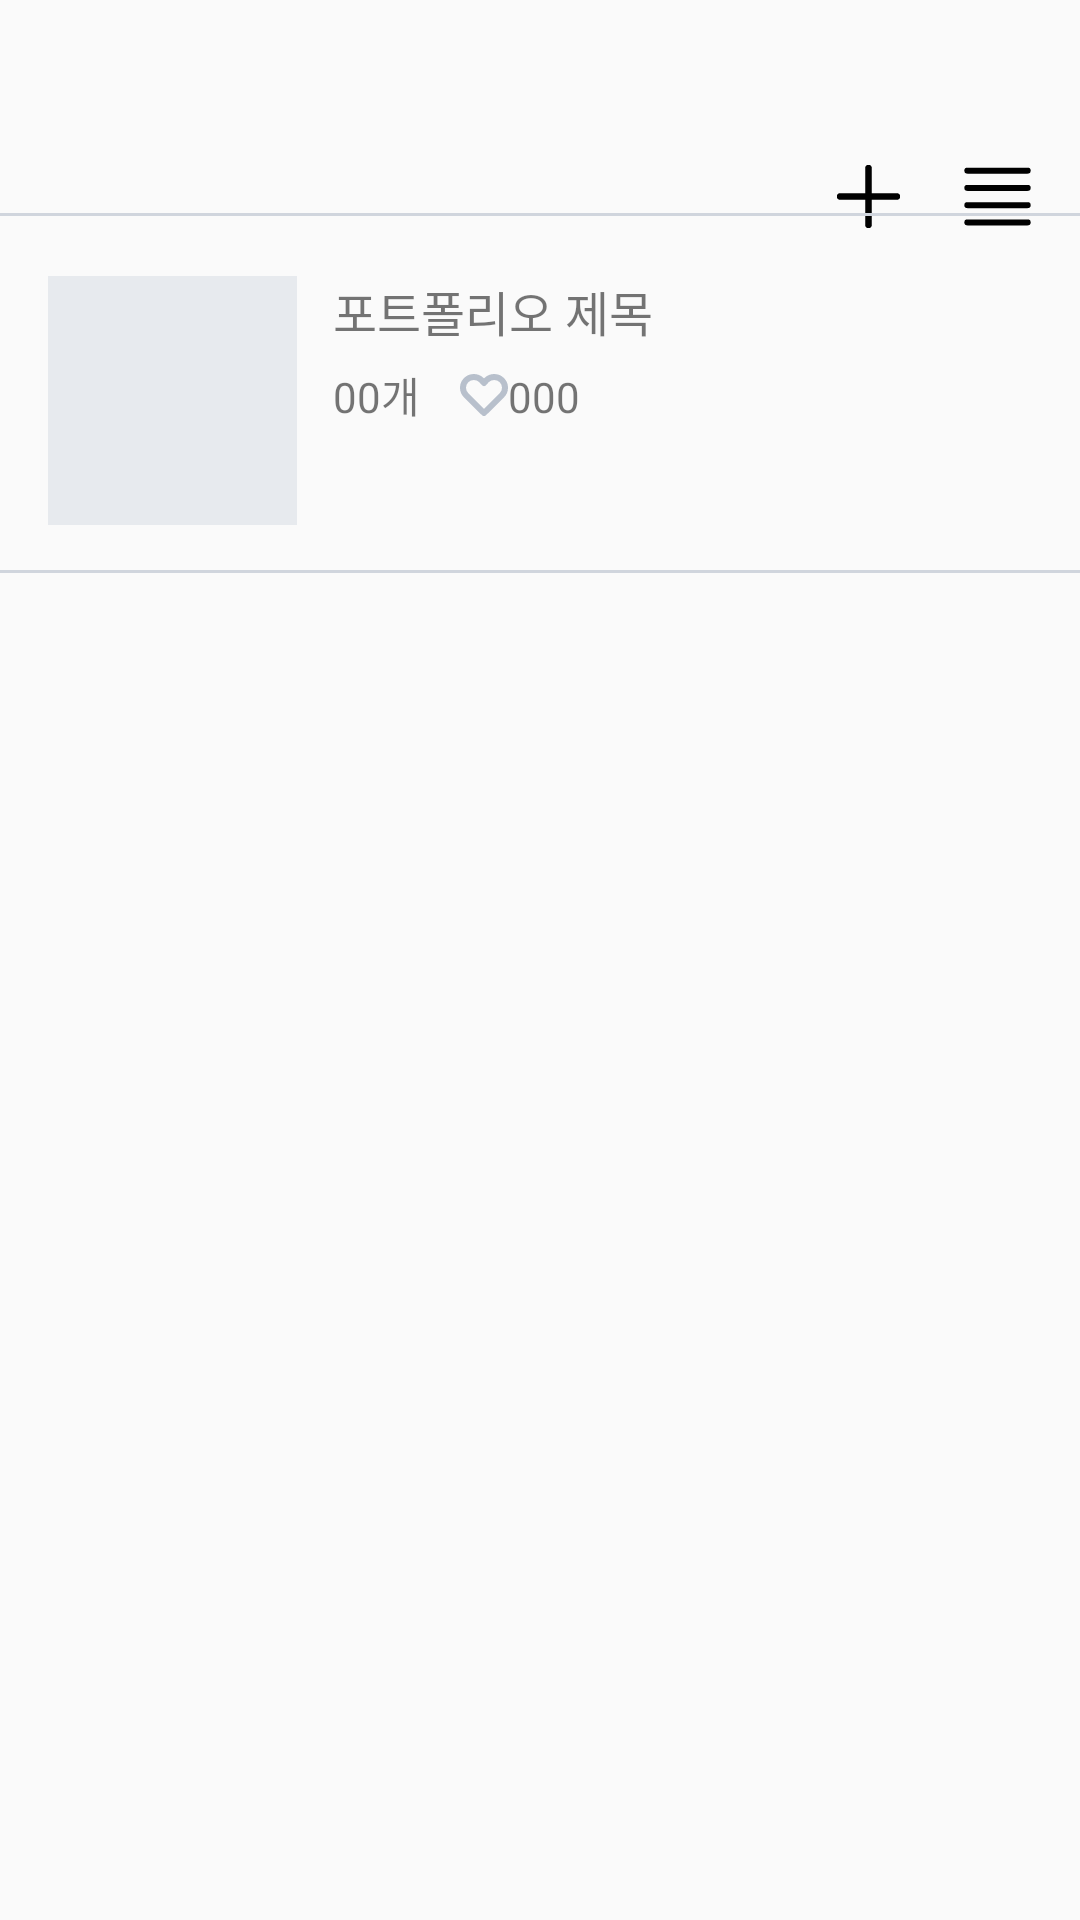

Named icons in this screenshot (1080x1920) and their bounding boxes, (x1, y1, x2, y2):
mypage add: (834, 165, 903, 228)
mypage likerecord: (460, 374, 508, 416)
mypage menu: (964, 167, 1031, 226)
